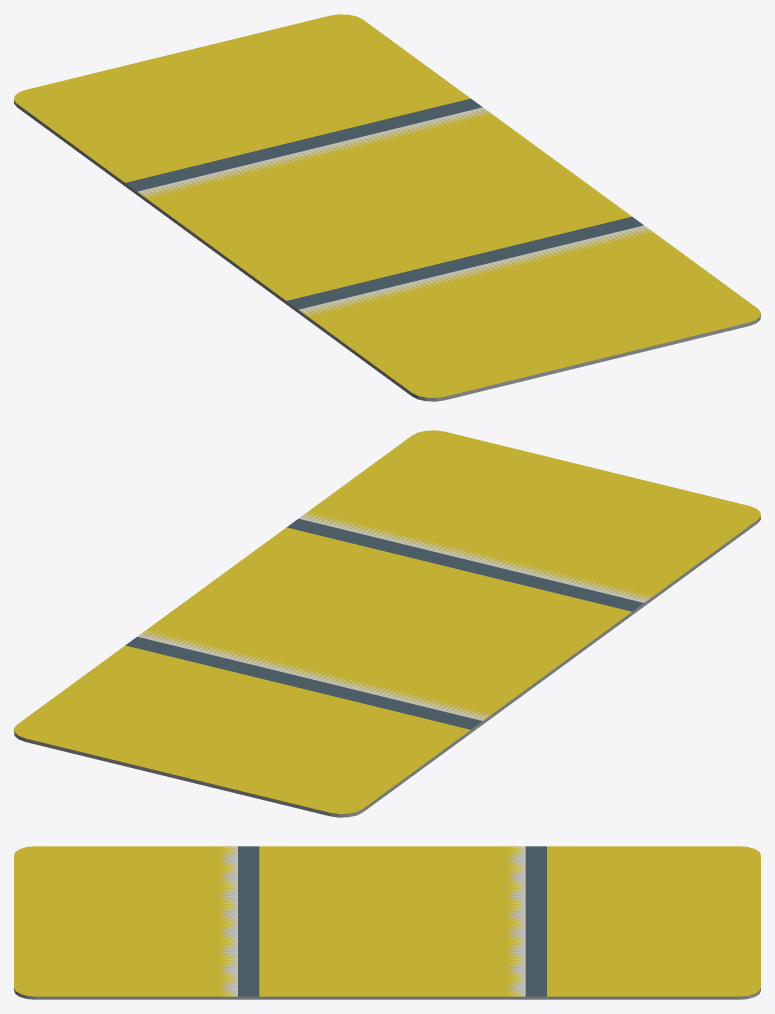
3 renders of one model, top to bottom at view 1: azimuth 30°, elevation 25°; view 2: azimuth 150°, elevation 25°; view 3: azimuth 270°, elevation 25°, orthographic. The views are drawn at different scales.
Parts seen in each view (by area): view 1: world; view 2: world; view 3: world.
Boxes of the visible parts, x1,y1,x2,y2 form: world: [14, 14, 760, 401]; world: [14, 430, 760, 817]; world: [14, 846, 760, 999].
Size of the model in its own units: 0.01 by 0.0001 by 0.021.
